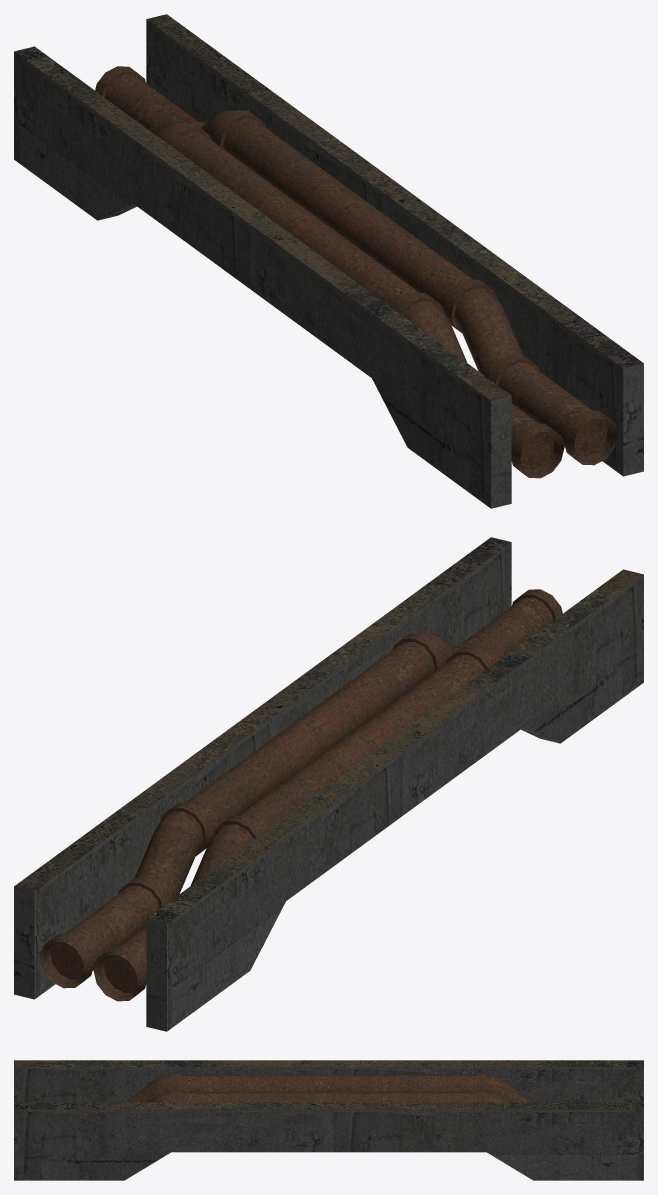
Rendered from beam_rtx_2_pipes.glb.
3 views of the same model, one above another, from view 1: azimuth 30°, elevation 25°; view 2: azimuth 150°, elevation 25°; view 3: azimuth 270°, elevation 25° (orthographic). The views are drawn at different scales.
Parts seen in each view (by area): view 1: beam_rtx_2_pipes; view 2: beam_rtx_2_pipes; view 3: beam_rtx_2_pipes.
Boxes of the visible parts, x1,y1,x2,y2 form: beam_rtx_2_pipes: [14, 14, 643, 508]; beam_rtx_2_pipes: [14, 537, 643, 1031]; beam_rtx_2_pipes: [14, 1060, 643, 1180].
Bounding box in the file's own units: 0.74 × 0.515 × 4.
3 materials, 3 textured.
